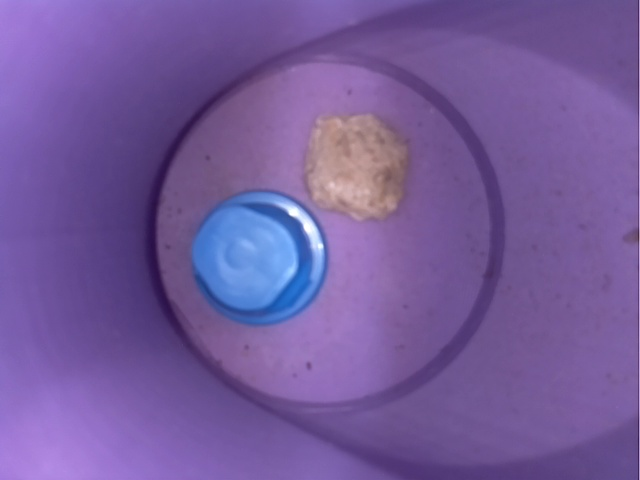bouchon: (172, 186, 332, 340)
caillou: (294, 104, 430, 231)
